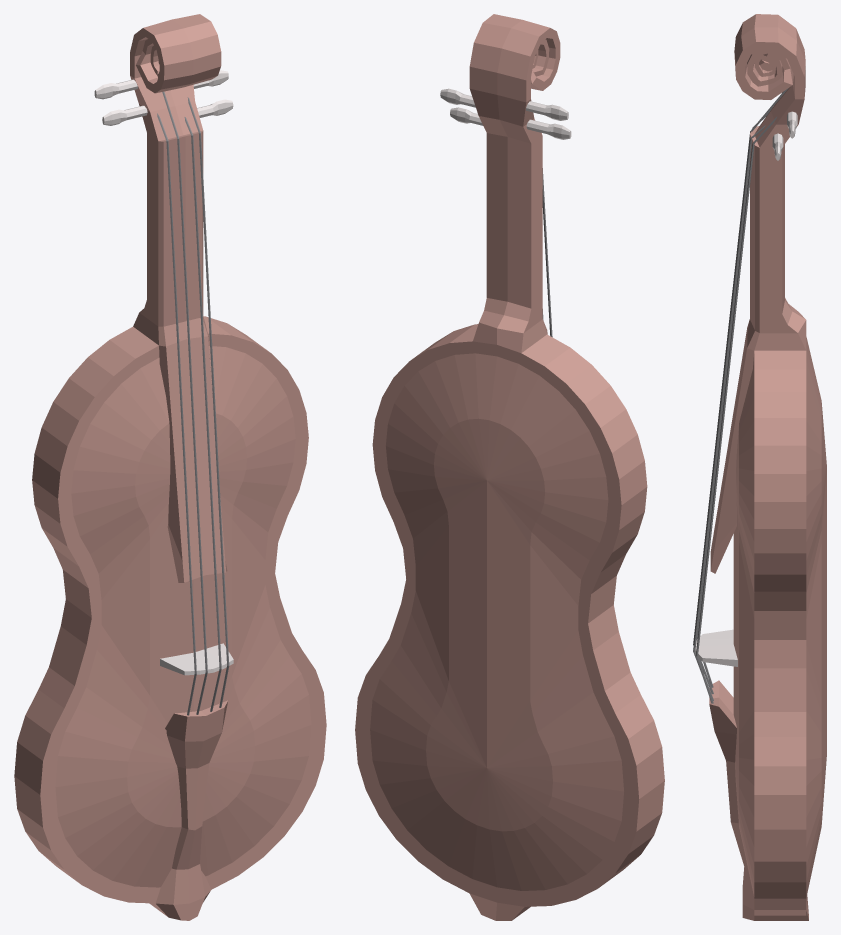
The model's file is violin_mikeeusa.fbx.
The picture shows the model from 3 angles, left to right: view 1: azimuth 30°, elevation 25°; view 2: azimuth 150°, elevation 25°; view 3: azimuth 270°, elevation 25°; orthographic projection.
Visible parts, largest first — view 1: Cylinder, Cylinder.001, Cylinder.002, Cube; view 2: Cylinder, Cylinder.002; view 3: Cylinder, Cylinder.001, Cube, Cylinder.002.
Part boxes in pixels (x1,y1,x2,y2): Cylinder: [14, 14, 326, 920]; Cylinder.001: [157, 91, 229, 715]; Cylinder.002: [94, 70, 233, 125]; Cube: [160, 643, 233, 675]; Cylinder: [355, 14, 664, 920]; Cylinder.002: [440, 88, 571, 139]; Cylinder: [709, 14, 826, 920]; Cylinder.001: [693, 88, 788, 703]; Cube: [695, 629, 737, 666]; Cylinder.002: [772, 111, 797, 160].
Size of the model in its own units: 2280 by 6758 by 922.
